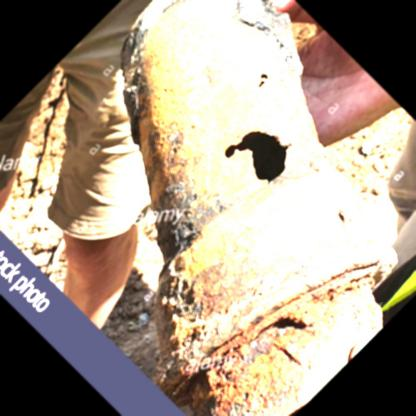burst: (224, 116, 305, 183)
